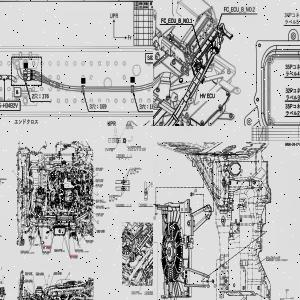PartNumber: (0, 102, 18, 108), (146, 54, 153, 61), (35, 272, 44, 274), (95, 179, 104, 181), (25, 272, 33, 274), (24, 279, 32, 281), (70, 255, 78, 257), (75, 249, 83, 251), (96, 213, 104, 215), (96, 205, 104, 207), (132, 291, 140, 293), (54, 248, 62, 250), (43, 246, 51, 248), (21, 250, 28, 252), (43, 251, 50, 253), (96, 199, 103, 201), (96, 184, 103, 186), (54, 272, 62, 273), (86, 240, 94, 241), (97, 230, 105, 231), (126, 126, 134, 127), (96, 168, 103, 169)
